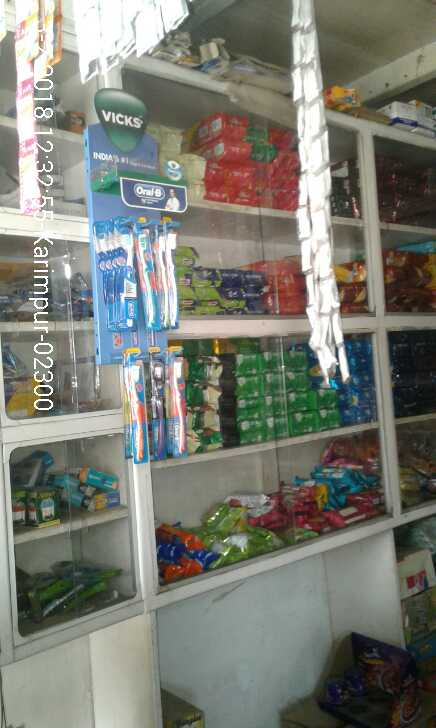oralb: (91, 219, 137, 337), (140, 226, 187, 336), (164, 358, 195, 452), (125, 349, 145, 465), (150, 356, 164, 460)
